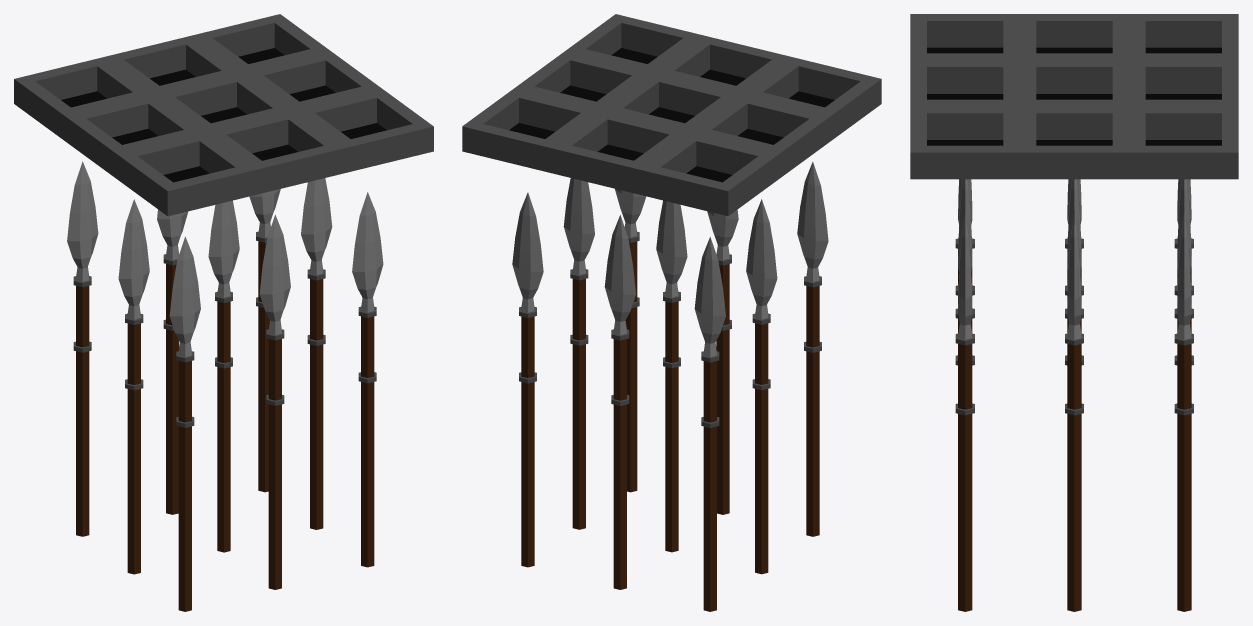
Rendered from SpikeTrapD.fbx.
The picture shows the model from 3 angles, left to right: view 1: azimuth 30°, elevation 25°; view 2: azimuth 150°, elevation 25°; view 3: azimuth 270°, elevation 25°; orthographic projection. The views are drawn at different scales.
Parts seen in each view (by area): view 1: SpikeTrapD, SpearD__2_, SpearD__3_, SpearD__1_, SpearD, SpearD__6_, SpearD__5_, SpearD__4_, SpearD__7_, SpearD__8_; view 2: SpikeTrapD, SpearD__3_, SpearD__7_, SpearD__8_, SpearD, SpearD__6_, SpearD__5_, SpearD__4_, SpearD__1_, SpearD__2_; view 3: SpikeTrapD, SpearD__8_, SpearD__2_, SpearD__5_, SpearD__7_, SpearD__1_, SpearD__4_, SpearD__6_, SpearD, SpearD__3_.
Boxes of the visible parts, <box> form: SpikeTrapD: <box>14,14,433,216</box>; SpearD__2_: <box>352,192,383,567</box>; SpearD__3_: <box>118,199,149,574</box>; SpearD__1_: <box>259,214,290,589</box>; SpearD: <box>169,236,200,611</box>; SpearD__6_: <box>67,161,98,536</box>; SpearD__5_: <box>301,178,332,529</box>; SpearD__4_: <box>208,200,239,552</box>; SpearD__7_: <box>157,209,188,514</box>; SpearD__8_: <box>249,189,280,492</box>; SpikeTrapD: <box>462,14,881,216</box>; SpearD__3_: <box>746,199,777,574</box>; SpearD__7_: <box>604,215,635,589</box>; SpearD__8_: <box>512,192,543,567</box>; SpearD: <box>797,161,828,536</box>; SpearD__6_: <box>694,237,725,611</box>; SpearD__5_: <box>563,178,594,529</box>; SpearD__4_: <box>656,200,687,552</box>; SpearD__1_: <box>707,209,738,514</box>; SpearD__2_: <box>615,189,646,492</box>; SpikeTrapD: <box>910,14,1238,179</box>; SpearD__8_: <box>1174,211,1193,611</box>; SpearD__2_: <box>955,211,974,611</box>; SpearD__5_: <box>1065,211,1083,611</box>; SpearD__7_: <box>1174,179,1193,365</box>; SpearD__1_: <box>955,179,974,365</box>; SpearD__4_: <box>1065,179,1083,365</box>; SpearD__6_: <box>1174,179,1193,318</box>; SpearD: <box>955,179,974,318</box>; SpearD__3_: <box>1065,179,1083,318</box>.
Bounding box in the file's own units: 200 × 321 × 200.
